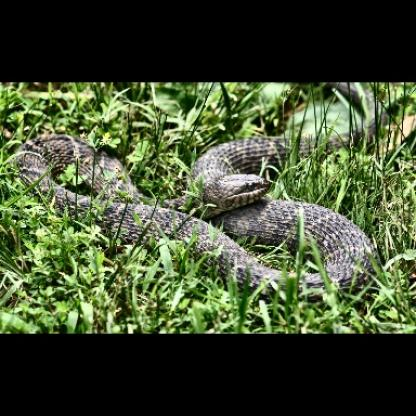Snake: (4, 125, 416, 294)
